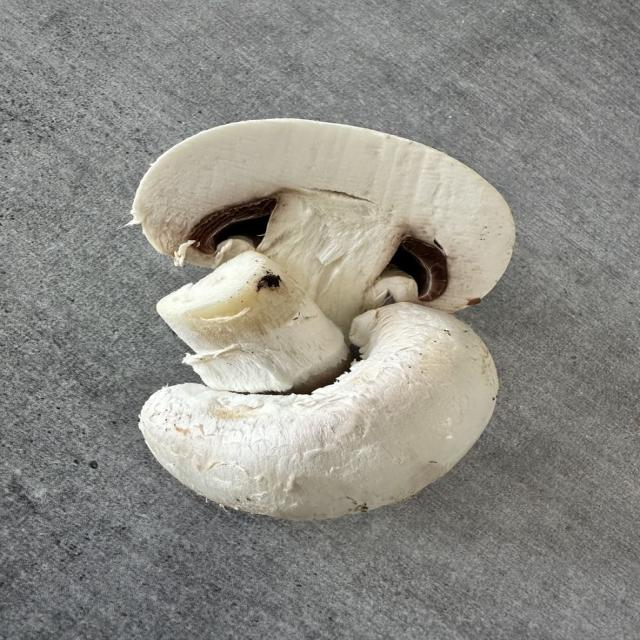champignon mushrooms: (133, 120, 513, 519)
